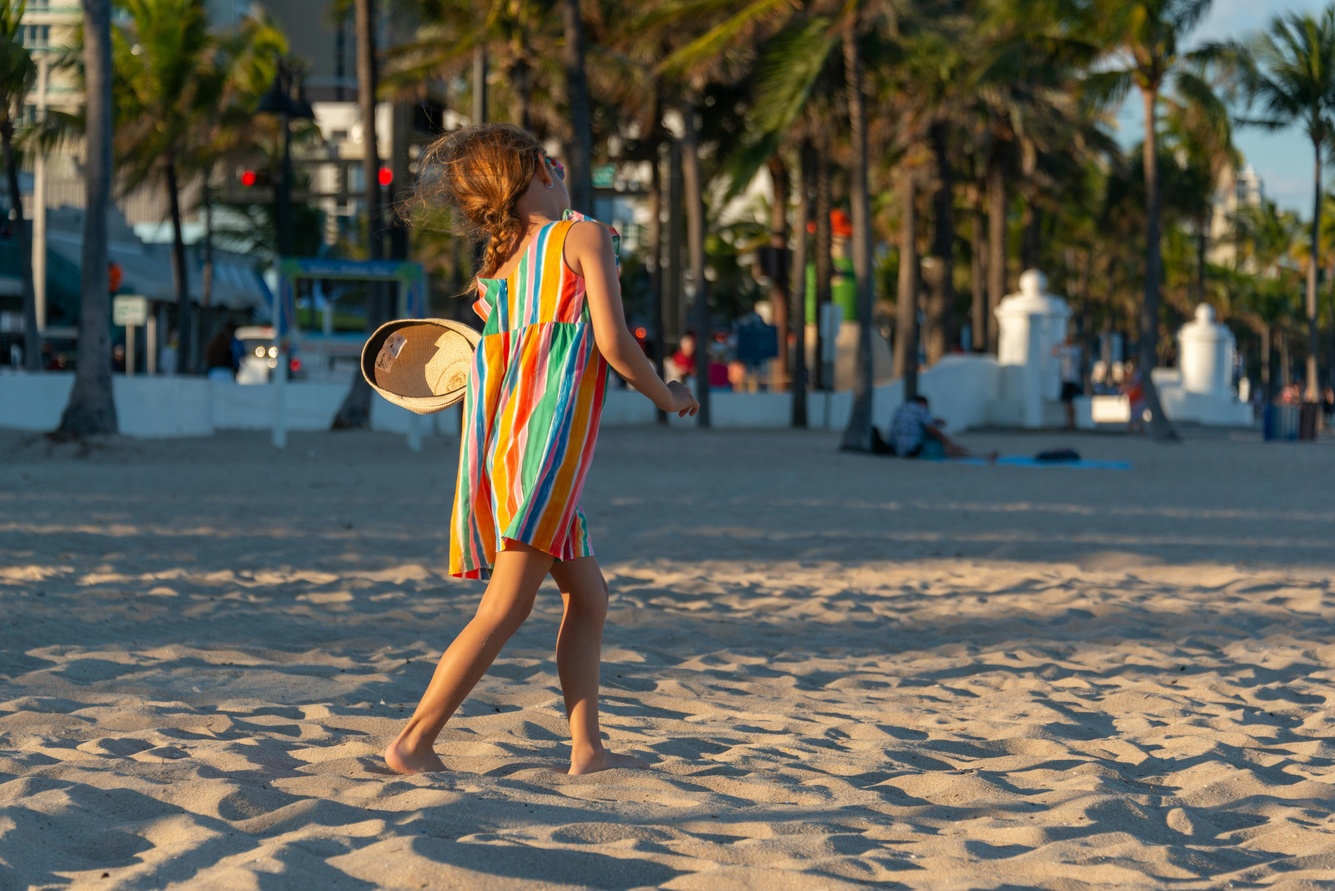Human: (340, 137, 663, 801)
